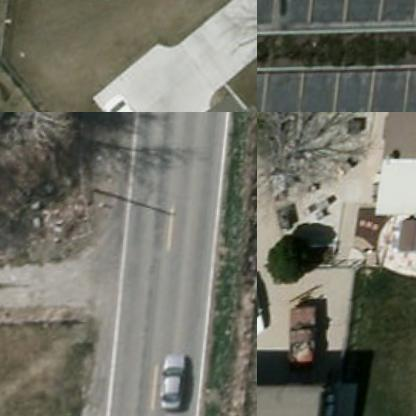car: (160, 353, 194, 416), (98, 83, 166, 111), (257, 270, 274, 342)
pickup: (288, 305, 326, 383)
